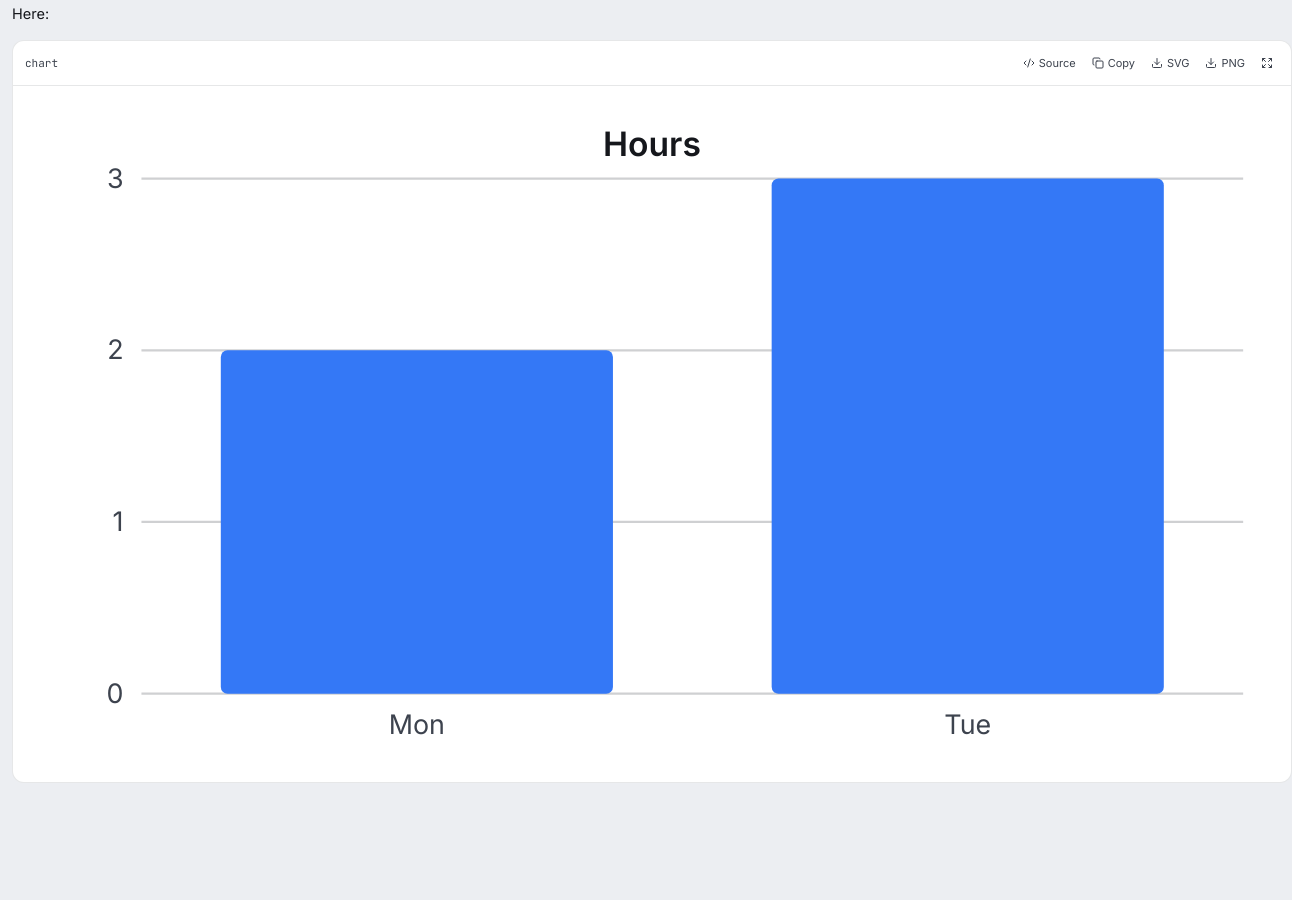
Test: Markdown with diagrams, charts and math › draws a chart, and shows its source on request
The image size is (1292, 900).
Click the button "Source": [1049, 63] box top-left (1017, 47), bottom-right (1082, 79)
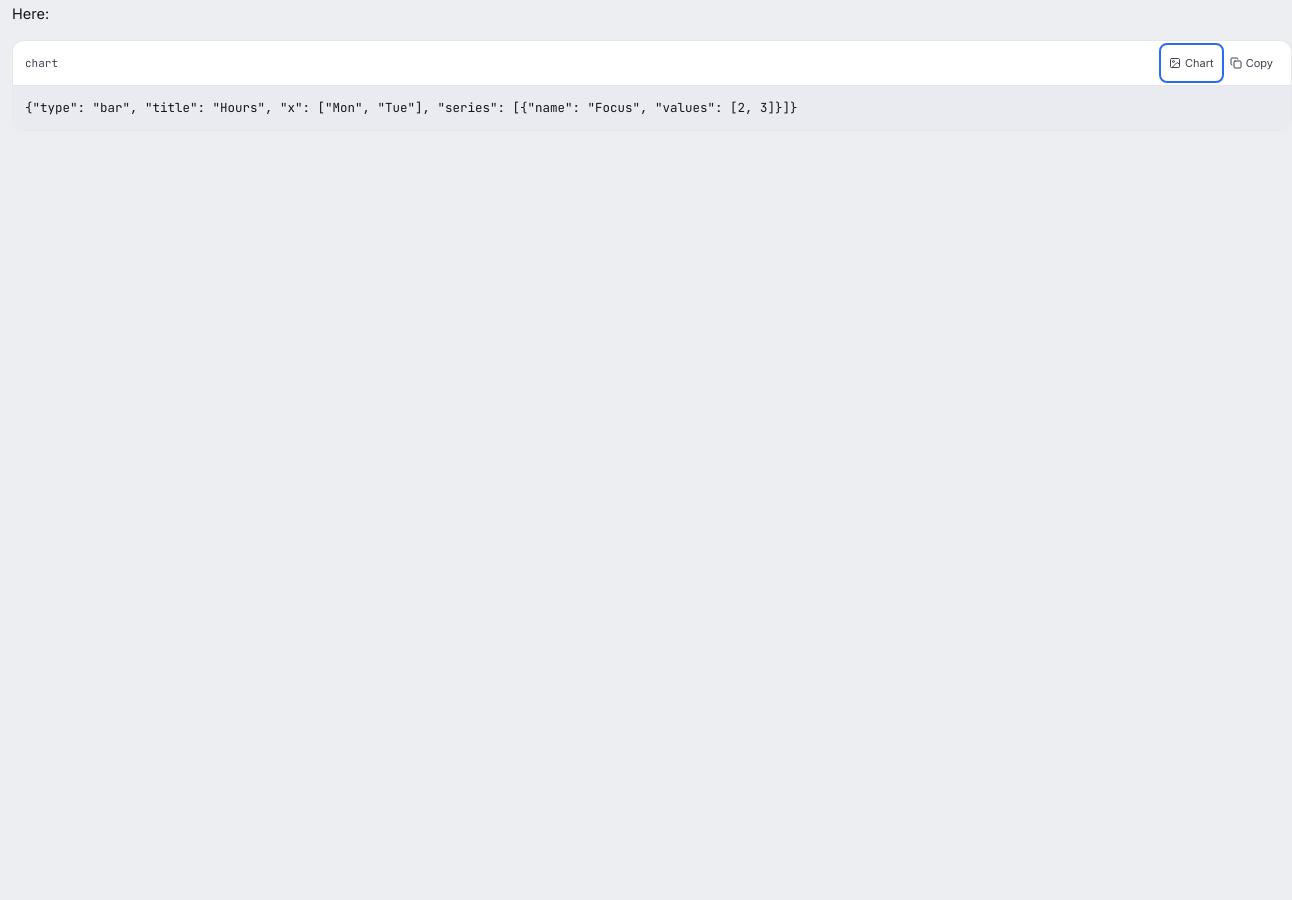
Check: the text "\"type\": \"bar\"" is shown, box top-left (25, 99), bottom-right (798, 116)
